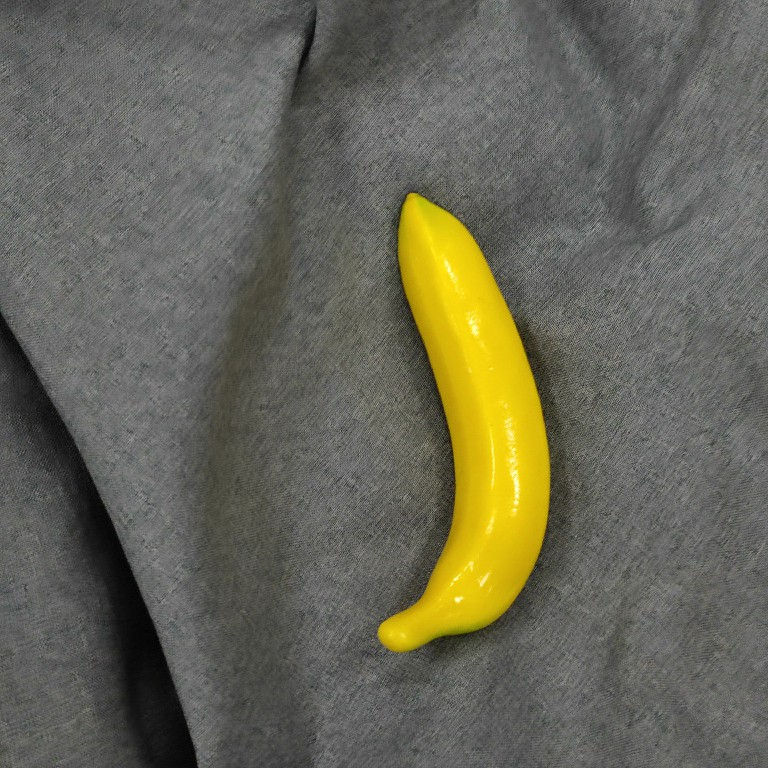fruit_banana: (359, 185, 570, 660)
